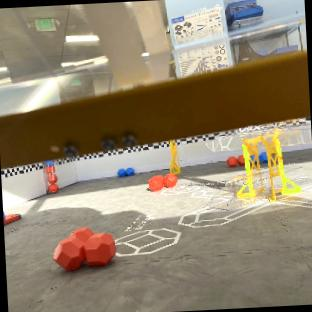Med_goal: (222, 117, 311, 201)
V5_BLUE: (118, 167, 133, 176), (260, 151, 267, 162)
V5_RED: (53, 226, 116, 270), (148, 173, 177, 191), (3, 214, 19, 224), (226, 156, 237, 165), (48, 184, 58, 192), (236, 155, 244, 164)
